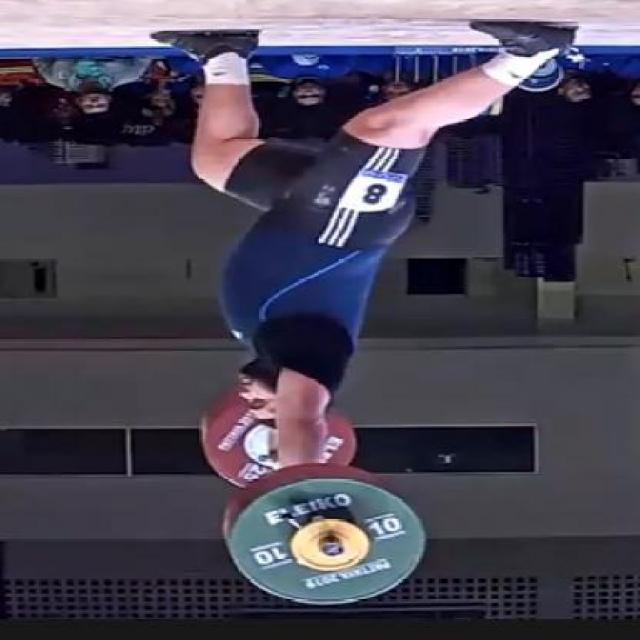Barbell: (314, 538, 348, 558)
